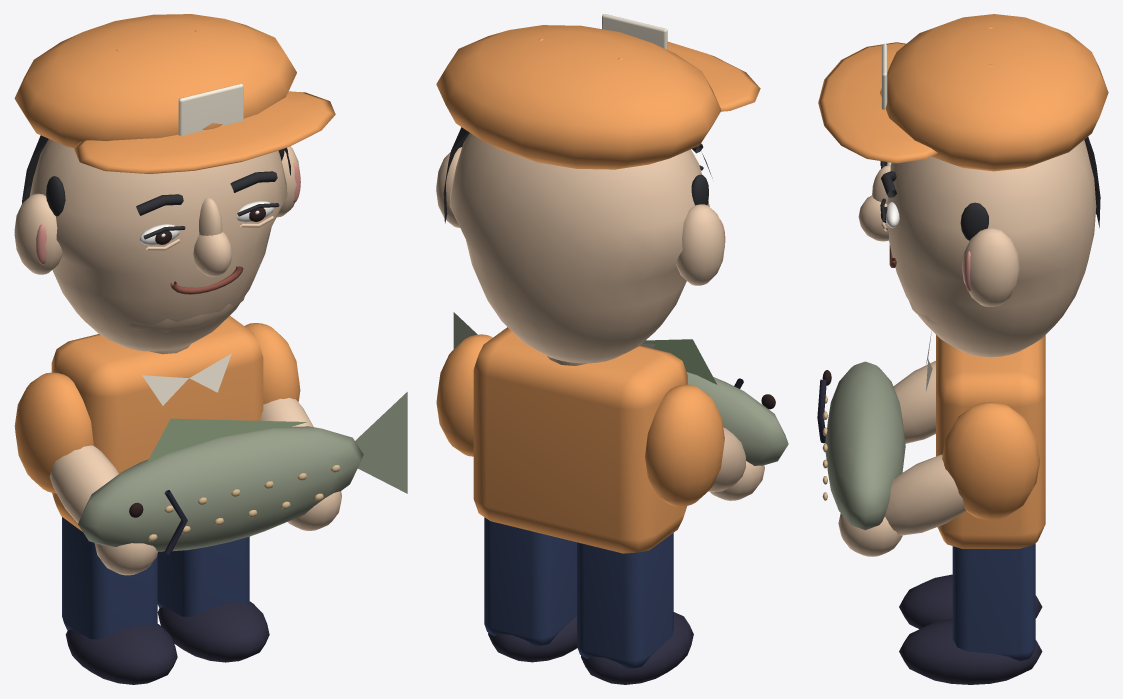
Rendered from longlong-02.glb.
3 renders of one model, left to right at view 1: azimuth 30°, elevation 25°; view 2: azimuth 150°, elevation 25°; view 3: azimuth 270°, elevation 25°, orthographic.
Visible parts, largest first — view 1: Trousers, Side-swept hair; view 2: Trousers, Side-swept hair; view 3: Trousers, Side-swept hair.
Boxes of the visible parts, bbox=[...] form: Trousers: bbox=[14, 14, 363, 684]; Side-swept hair: bbox=[22, 135, 407, 493]; Trousers: bbox=[436, 14, 788, 684]; Side-swept hair: bbox=[443, 127, 717, 384]; Trousers: bbox=[817, 14, 1108, 684]; Side-swept hair: bbox=[926, 137, 1100, 391].
Size of the model in its own units: 1.68 by 3 by 1.29.
2 materials, 2 textured.
